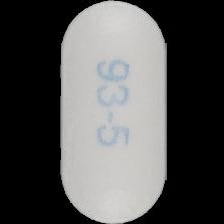55700-348: (0, 0, 224, 224)
